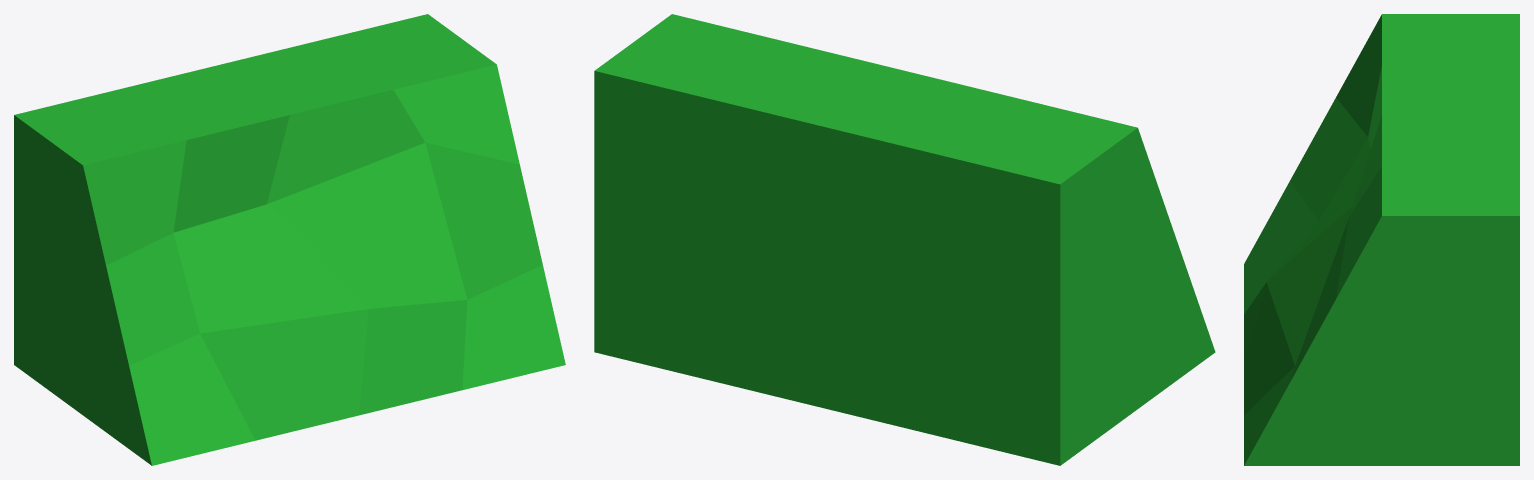
File: tile-infrastructure-land_cliff_right_edge.glb
The picture shows the model from 3 angles, left to right: view 1: azimuth 30°, elevation 25°; view 2: azimuth 150°, elevation 25°; view 3: azimuth 270°, elevation 25°; orthographic projection. The views are drawn at different scales.
Parts seen in each view (by area): view 1: tile-infrastructure-land_cliff_right_edge; view 2: tile-infrastructure-land_cliff_right_edge; view 3: tile-infrastructure-land_cliff_right_edge.
Part boxes in pixels (bbox=[...]): tile-infrastructure-land_cliff_right_edge: bbox=[14, 14, 565, 465]; tile-infrastructure-land_cliff_right_edge: bbox=[594, 14, 1215, 465]; tile-infrastructure-land_cliff_right_edge: bbox=[1244, 14, 1519, 465].
Bounding box in the file's own units: 0.866 × 0.5 × 0.5.
